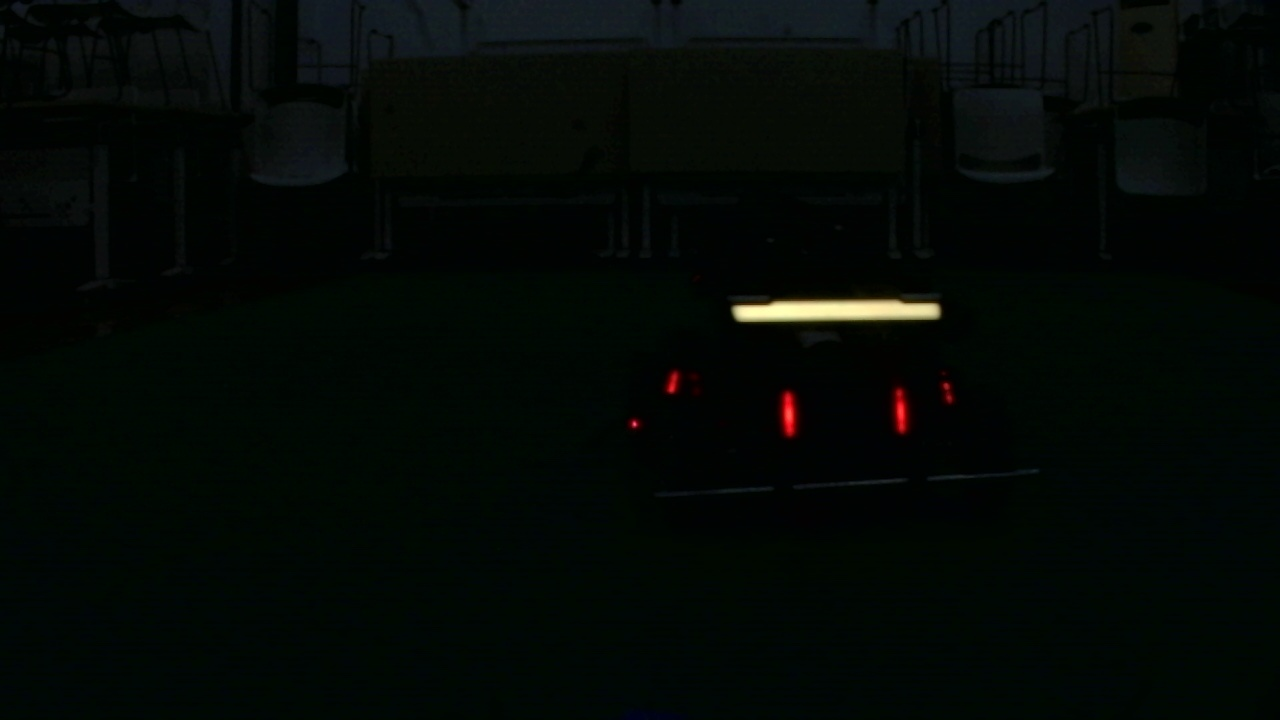lamp: (780, 387, 801, 441), (894, 389, 912, 442)
notpair1: (664, 364, 800, 433), (893, 380, 962, 442)
pair1: (780, 388, 911, 440)
